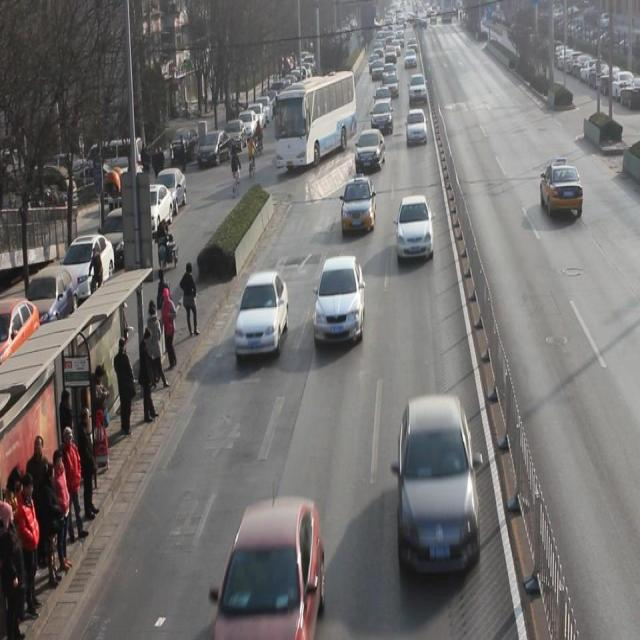car: (211, 494, 326, 640), (398, 396, 482, 581), (314, 255, 367, 347), (236, 272, 290, 359), (540, 160, 584, 218), (397, 195, 435, 260), (342, 176, 377, 234), (355, 128, 386, 174), (406, 107, 428, 148), (371, 101, 394, 136), (374, 86, 393, 113)
van: (274, 70, 356, 171)
